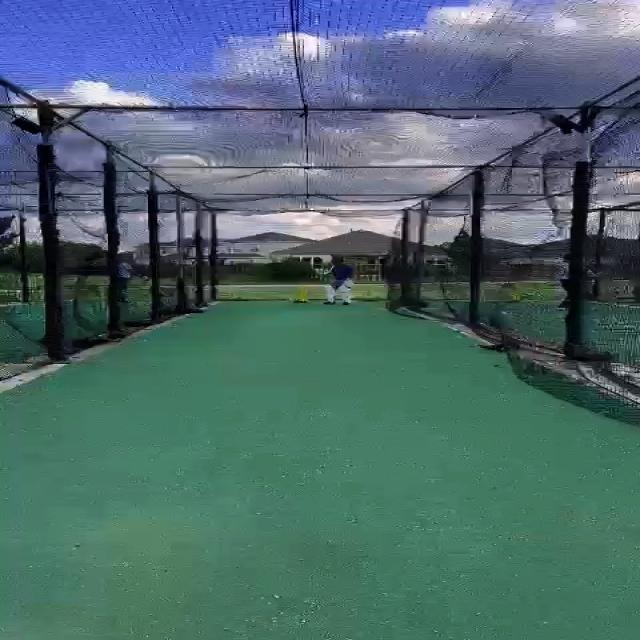batsman: (316, 254, 356, 306)
